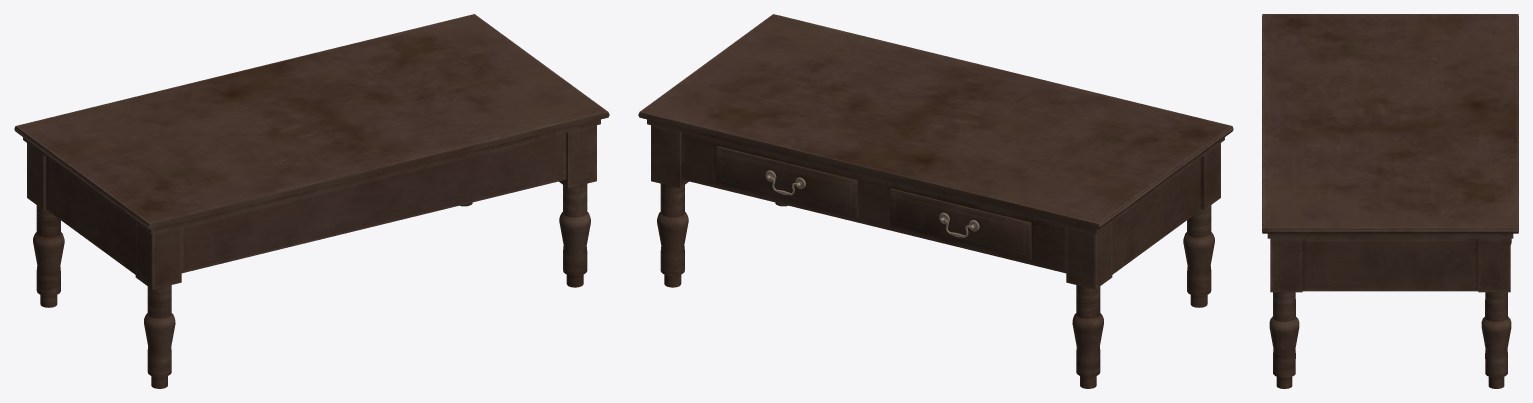
The model's file is table-coffee.glb.
The picture shows the model from 3 angles, left to right: view 1: azimuth 30°, elevation 25°; view 2: azimuth 150°, elevation 25°; view 3: azimuth 270°, elevation 25°; orthographic projection. The views are drawn at different scales.
Visible parts, largest first — view 1: table-coffee; view 2: table-coffee; view 3: table-coffee.
Boxes of the visible parts, <box> form: table-coffee: <box>14,14,609,388</box>; table-coffee: <box>638,14,1233,388</box>; table-coffee: <box>1262,14,1518,388</box>.
Bounding box in the file's own units: 1.31 × 0.4737 × 0.6583.
1 material, 1 textured.
